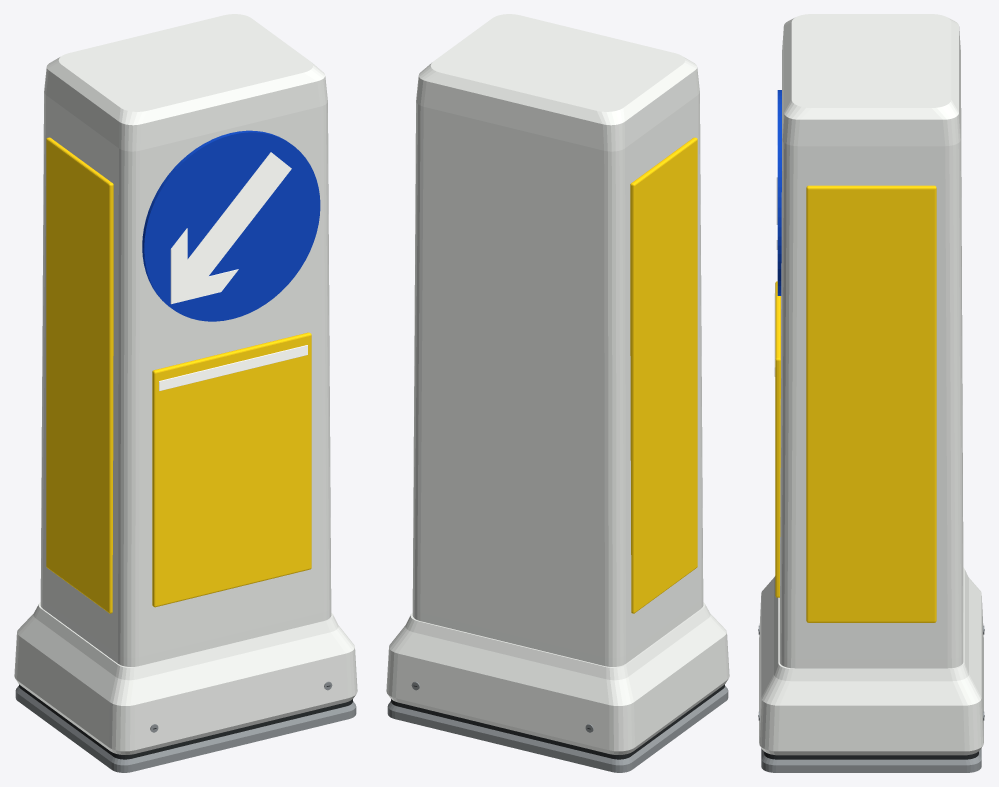
The model's file is KeepLeft_Bollard_LOD0.glb.
The picture shows the model from 3 angles, left to right: view 1: azimuth 30°, elevation 25°; view 2: azimuth 150°, elevation 25°; view 3: azimuth 270°, elevation 25°; orthographic projection.
Visible parts, largest first — view 1: Opal_Housing, Front_Yellow_Panel, Flared_Base_Skirt, Left_Side_Yellow_Panel, Blue_Circular_Direction_Field, White_Keep_Left_Arrow, Ground_Mounting_Rim, Front_White_Reflector_Band, Foot_Gasket; view 2: Opal_Housing, Flared_Base_Skirt, Left_Side_Yellow_Panel, Ground_Mounting_Rim, Foot_Gasket; view 3: Opal_Housing, Right_Side_Yellow_Panel, Flared_Base_Skirt, Ground_Mounting_Rim, Front_Yellow_Panel, Foot_Gasket, Blue_Circular_Direction_Field.
Part boxes in pixels (x1,y1,x2,y2): Opal_Housing: (40,14,331,666); Front_Yellow_Panel: (152,332,311,607); Flared_Base_Skirt: (14,602,357,754); Left_Side_Yellow_Panel: (46,137,113,613); Blue_Circular_Direction_Field: (142,130,320,321); White_Keep_Left_Arrow: (170,152,291,304); Ground_Mounting_Rim: (15,686,356,772); Front_White_Reflector_Band: (159,345,307,391); Foot_Gasket: (19,684,352,759); Opal_Housing: (412,14,703,666); Flared_Base_Skirt: (386,602,729,754); Left_Side_Yellow_Panel: (630,137,697,613); Ground_Mounting_Rim: (387,686,728,772); Foot_Gasket: (391,684,724,759); Opal_Housing: (779,14,963,668); Right_Side_Yellow_Panel: (806,185,936,622); Flared_Base_Skirt: (759,567,983,755); Ground_Mounting_Rim: (761,748,981,772); Front_Yellow_Panel: (775,281,780,597); Foot_Gasket: (764,751,978,759); Blue_Circular_Direction_Field: (777,90,781,295).
Bounding box in the file's own units: 0.408 × 1.02 × 0.3203.
